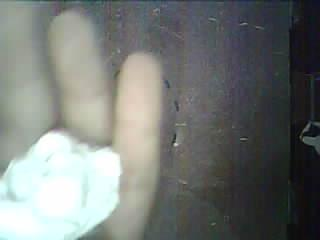paper: (0, 131, 119, 239)
